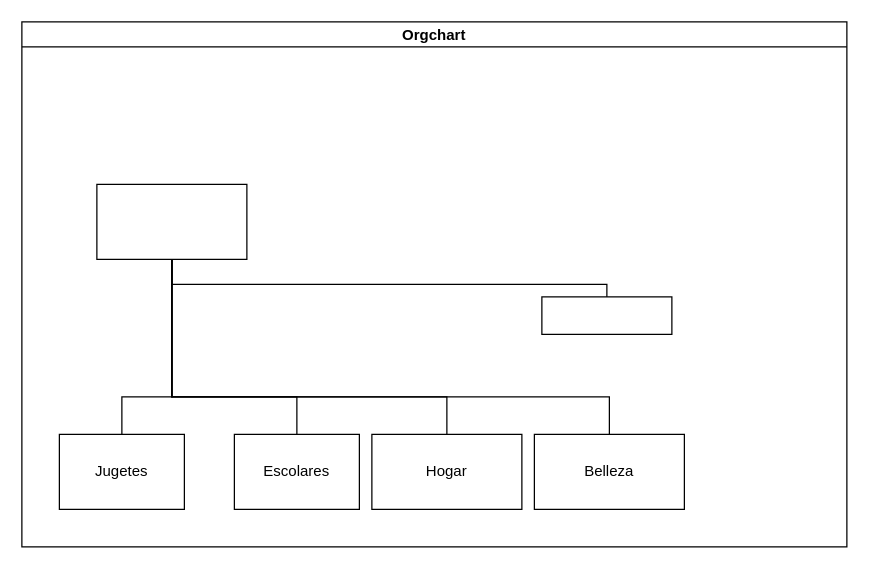
The diagram is 869 pixels wide and 569 high, and some of its shapes have lost their labels. The centre of each missing label's shape, as x and y in pixels:
"Home Page" goes at point (171, 221).
"Login" goes at point (606, 315).
